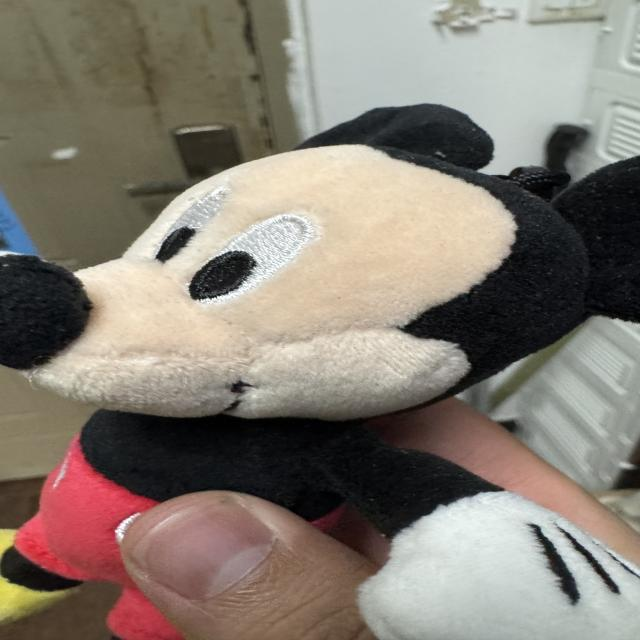mickey: (0, 105, 639, 639)
